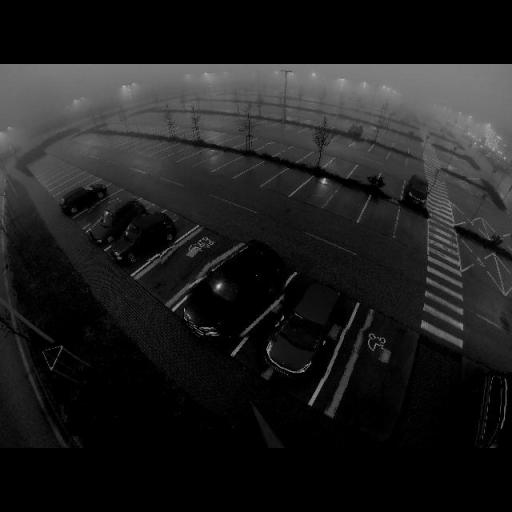busy: (186, 238, 288, 340), (260, 274, 348, 380), (468, 361, 512, 448), (112, 211, 178, 263), (89, 199, 143, 244), (402, 176, 443, 210), (60, 182, 106, 212)
free: (324, 326, 406, 424), (160, 244, 211, 282), (90, 200, 121, 224), (366, 206, 396, 228), (398, 221, 424, 240), (334, 196, 360, 212), (388, 148, 409, 167), (306, 187, 332, 202), (91, 203, 112, 219), (371, 143, 391, 159), (353, 170, 375, 184), (331, 136, 352, 150), (352, 137, 371, 151), (278, 177, 301, 188), (263, 140, 281, 154), (308, 156, 328, 167), (285, 150, 304, 160), (252, 170, 270, 180), (331, 163, 349, 173), (234, 162, 248, 171)
